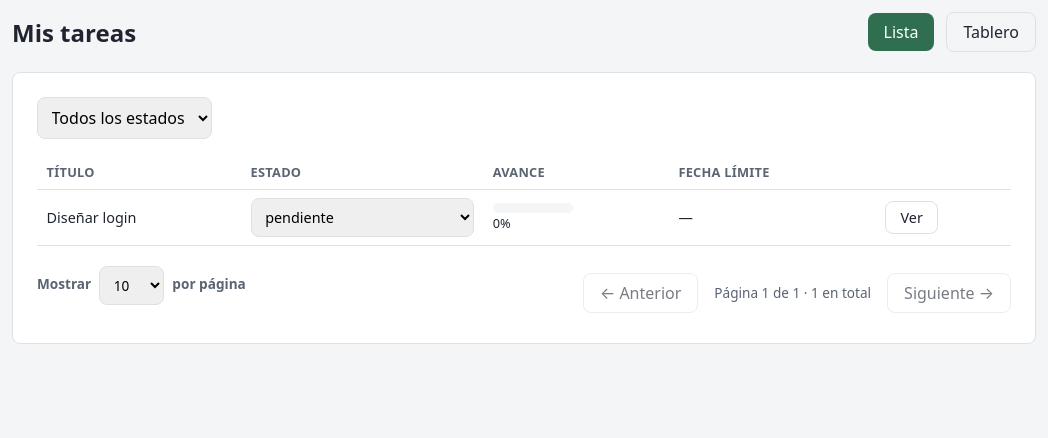
Test: WorkerTasks — cambio de estado desde la lista › usa un mensaje genérico si el error al cambiar el estado no es un ApiError
The image size is (1048, 438).
Expected: the text "Diseñar login" is shown, [37,190,241,246]
Select "en curso" in the dropdown next to "Diseñar login" at (362, 218), box [250,198,474,237]
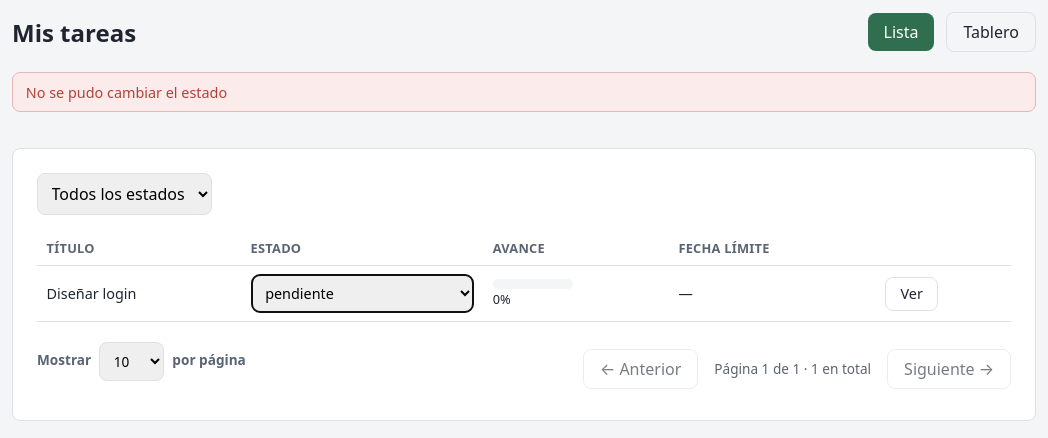
Now the text "No se pudo cambiar el estado" is shown, box [12,72,1036,112]
